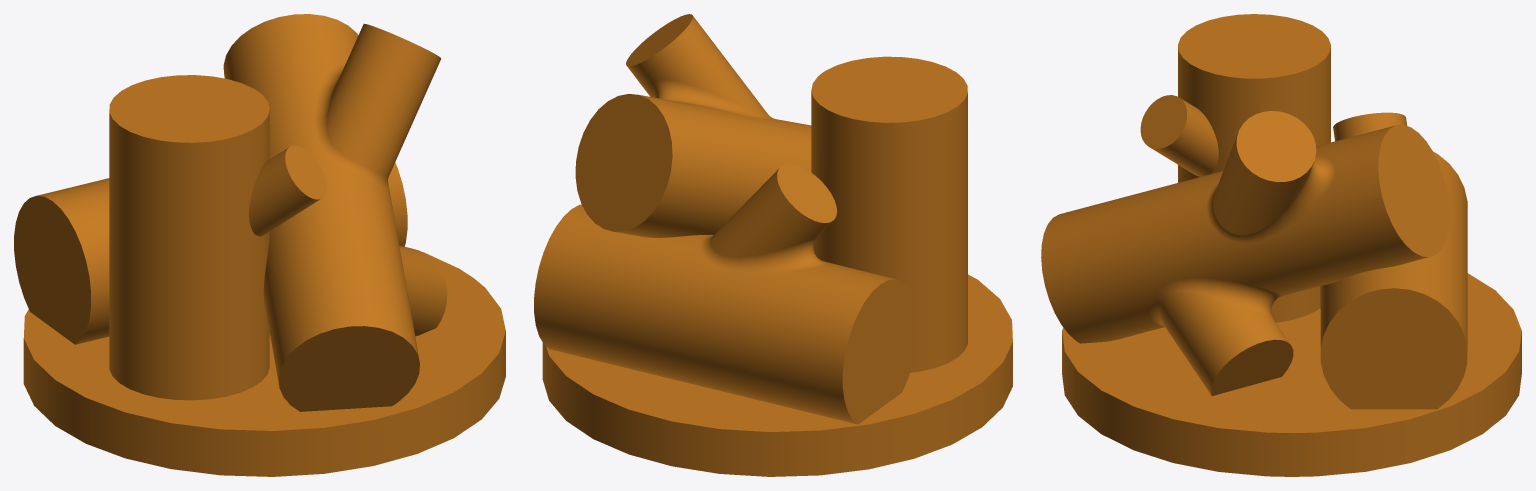
The model's file is wood.obj.
3 views of the same model, side by side, from view 1: azimuth 30°, elevation 25°; view 2: azimuth 150°, elevation 25°; view 3: azimuth 270°, elevation 25° (orthographic). The views are drawn at different scales.
Parts seen in each view (by area): view 1: mesh18, mesh13, mesh1, mesh2, mesh16, mesh5, mesh19, mesh4, mesh7, mesh20, mesh8, mesh15 (+1 smaller); view 2: mesh7, mesh18, mesh1, mesh2, mesh13, mesh14, mesh19, mesh4, mesh11, mesh16, mesh10, mesh12 (+2 smaller); view 3: mesh13, mesh2, mesh1, mesh3, mesh18, mesh19, mesh7, mesh14, mesh8, mesh17, mesh16, mesh15 (+5 smaller).
Boxes of the visible parts, box(x1,y1,x2,y2) form: mesh18: box(109, 111, 269, 400); mesh13: box(223, 14, 419, 385); mesh1: box(23, 331, 505, 476); mesh2: box(24, 247, 505, 430); mesh16: box(327, 23, 441, 176); mesh5: box(278, 326, 419, 411); mesh19: box(109, 75, 269, 142); mesh4: box(14, 195, 90, 344); mesh7: box(37, 162, 407, 344); mesh20: box(249, 147, 320, 236); mesh8: box(399, 246, 447, 336); mesh15: box(314, 60, 388, 188); mesh7: box(534, 204, 894, 424); mesh18: box(811, 91, 967, 372); mesh1: box(542, 342, 1012, 476); mesh2: box(546, 274, 1012, 431); mesh13: box(616, 95, 811, 237); mesh14: box(575, 94, 672, 231); mesh19: box(811, 56, 967, 122); mesh4: box(842, 279, 917, 424); mesh11: box(711, 169, 833, 256); mesh16: box(626, 15, 767, 113); mesh10: box(699, 235, 826, 273); mesh12: box(777, 164, 837, 222); mesh13: box(1041, 125, 1427, 343); mesh2: box(1062, 273, 1521, 432); mesh1: box(1062, 331, 1521, 476); mesh3: box(1320, 288, 1467, 409); mesh18: box(1178, 46, 1330, 322); mesh19: box(1178, 14, 1330, 78); mesh7: box(1320, 152, 1467, 347); mesh14: box(1378, 124, 1449, 257); mesh8: box(1160, 290, 1290, 395); mesh17: box(1236, 111, 1316, 181); mesh16: box(1213, 133, 1313, 234); mesh15: box(1206, 155, 1335, 243).
Bounding box in the file's own units: 0.0151 × 0.0114 × 0.0158.
